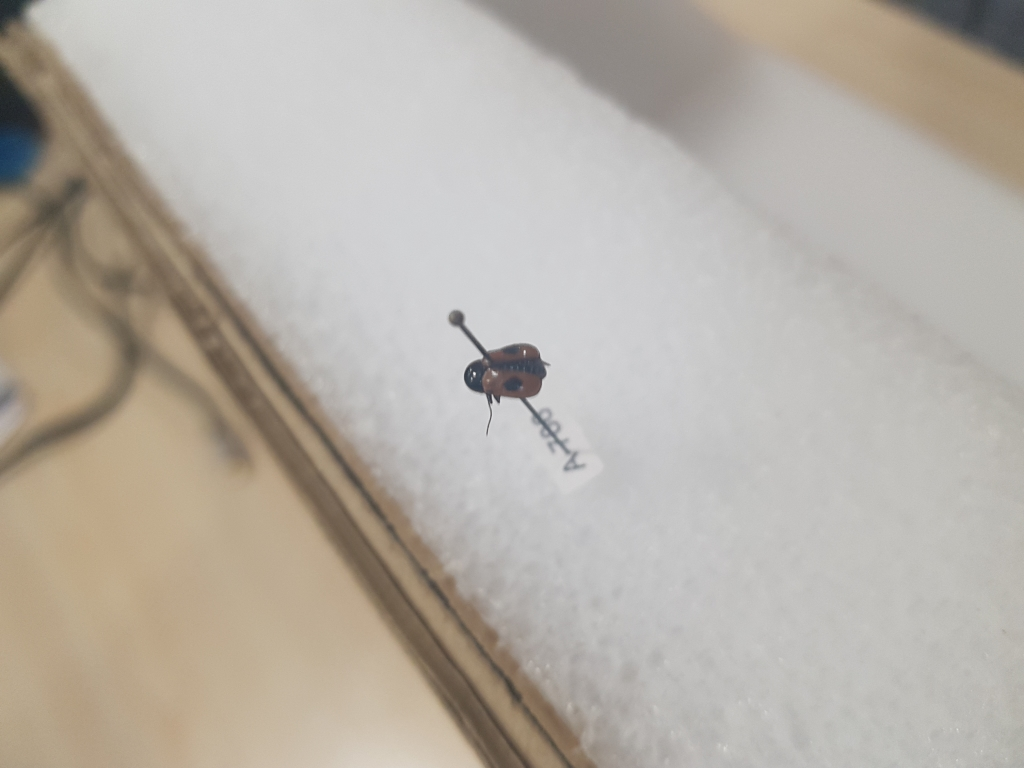Cryptocephalus_bipunctatus: (464, 336, 554, 434)
